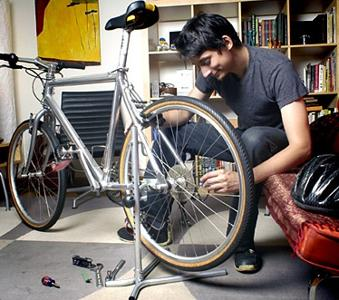person: (117, 13, 313, 275)
